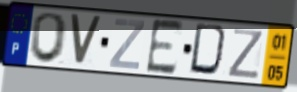D: (187, 22, 232, 80)
E: (144, 17, 186, 77)
O: (27, 12, 70, 66)
V: (68, 12, 104, 69)
Z: (107, 17, 147, 72), (225, 27, 265, 81)
